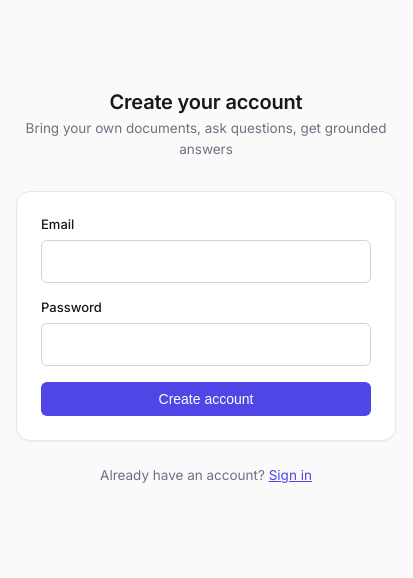
Test: RegisterPage › blocks submission and shows an error for an invalid email
Type "not-an-email" into the field labelled "Email" at (206, 262), box [41,240,371,284]
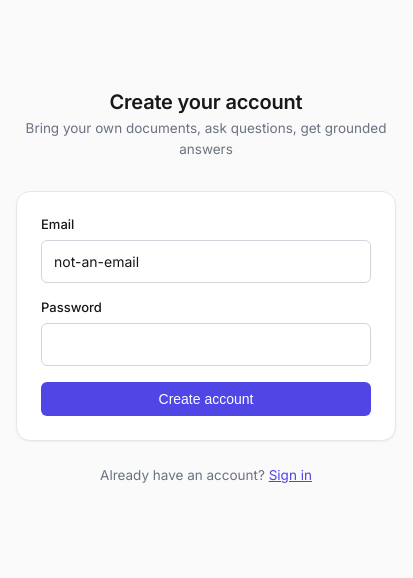
Type "Str0ngPass!" into the password field labelled "Password" at (206, 345), box [41,324,371,366]
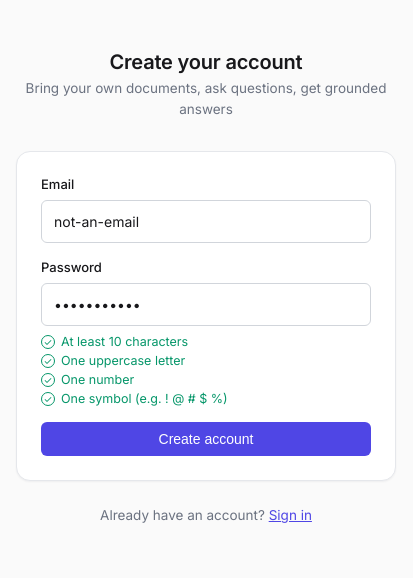
Click the button "Create account" at (206, 440), box [41,422,371,456]
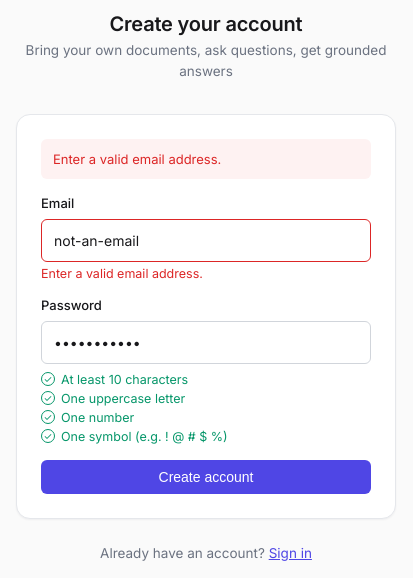
Expected: the text "Enter a valid email address." is shown 2 times, [41,139,371,179]; [41,266,203,281]
